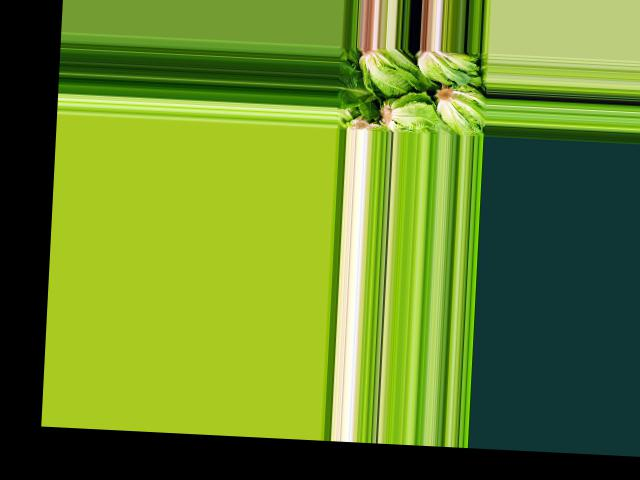lettuce: (336, 74, 373, 110)
